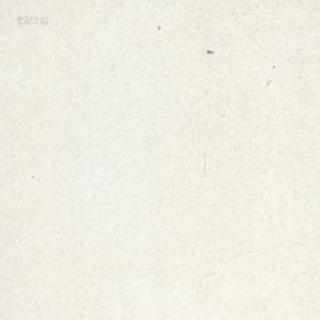Nailtrack_idkeyframe: (205, 48, 212, 53)
